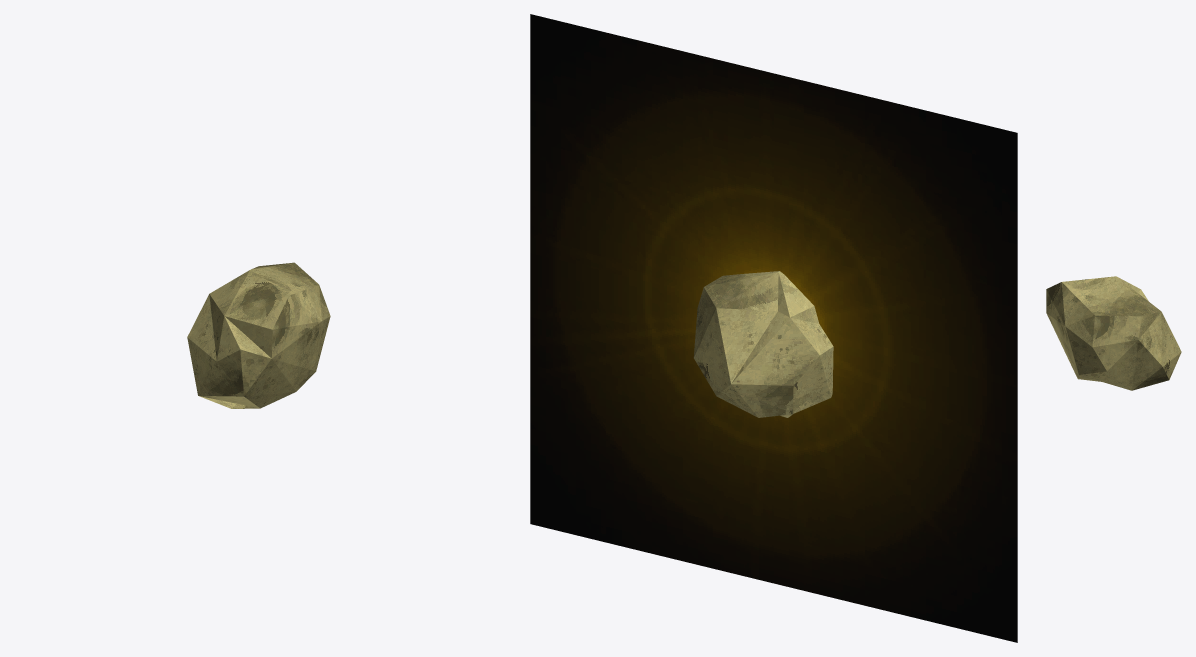
The model's file is item_moonrock_cheesy.glb.
The picture shows the model from 3 angles, left to right: view 1: azimuth 30°, elevation 25°; view 2: azimuth 150°, elevation 25°; view 3: azimuth 270°, elevation 25°; orthographic projection. The views are drawn at different scales.
Parts seen in each view (by area): view 1: Mine_Rock01; view 2: Quad, Mine_Rock01; view 3: Mine_Rock01.
Boxes of the visible parts, bbox=[...] form: Mine_Rock01: bbox=[187, 262, 330, 408]; Quad: bbox=[530, 14, 1017, 642]; Mine_Rock01: bbox=[693, 271, 833, 417]; Mine_Rock01: bbox=[1046, 276, 1181, 390].
Bounding box in the file's own units: 1 × 1 × 0.2862.
Materials: 2 (2 with a texture image).
